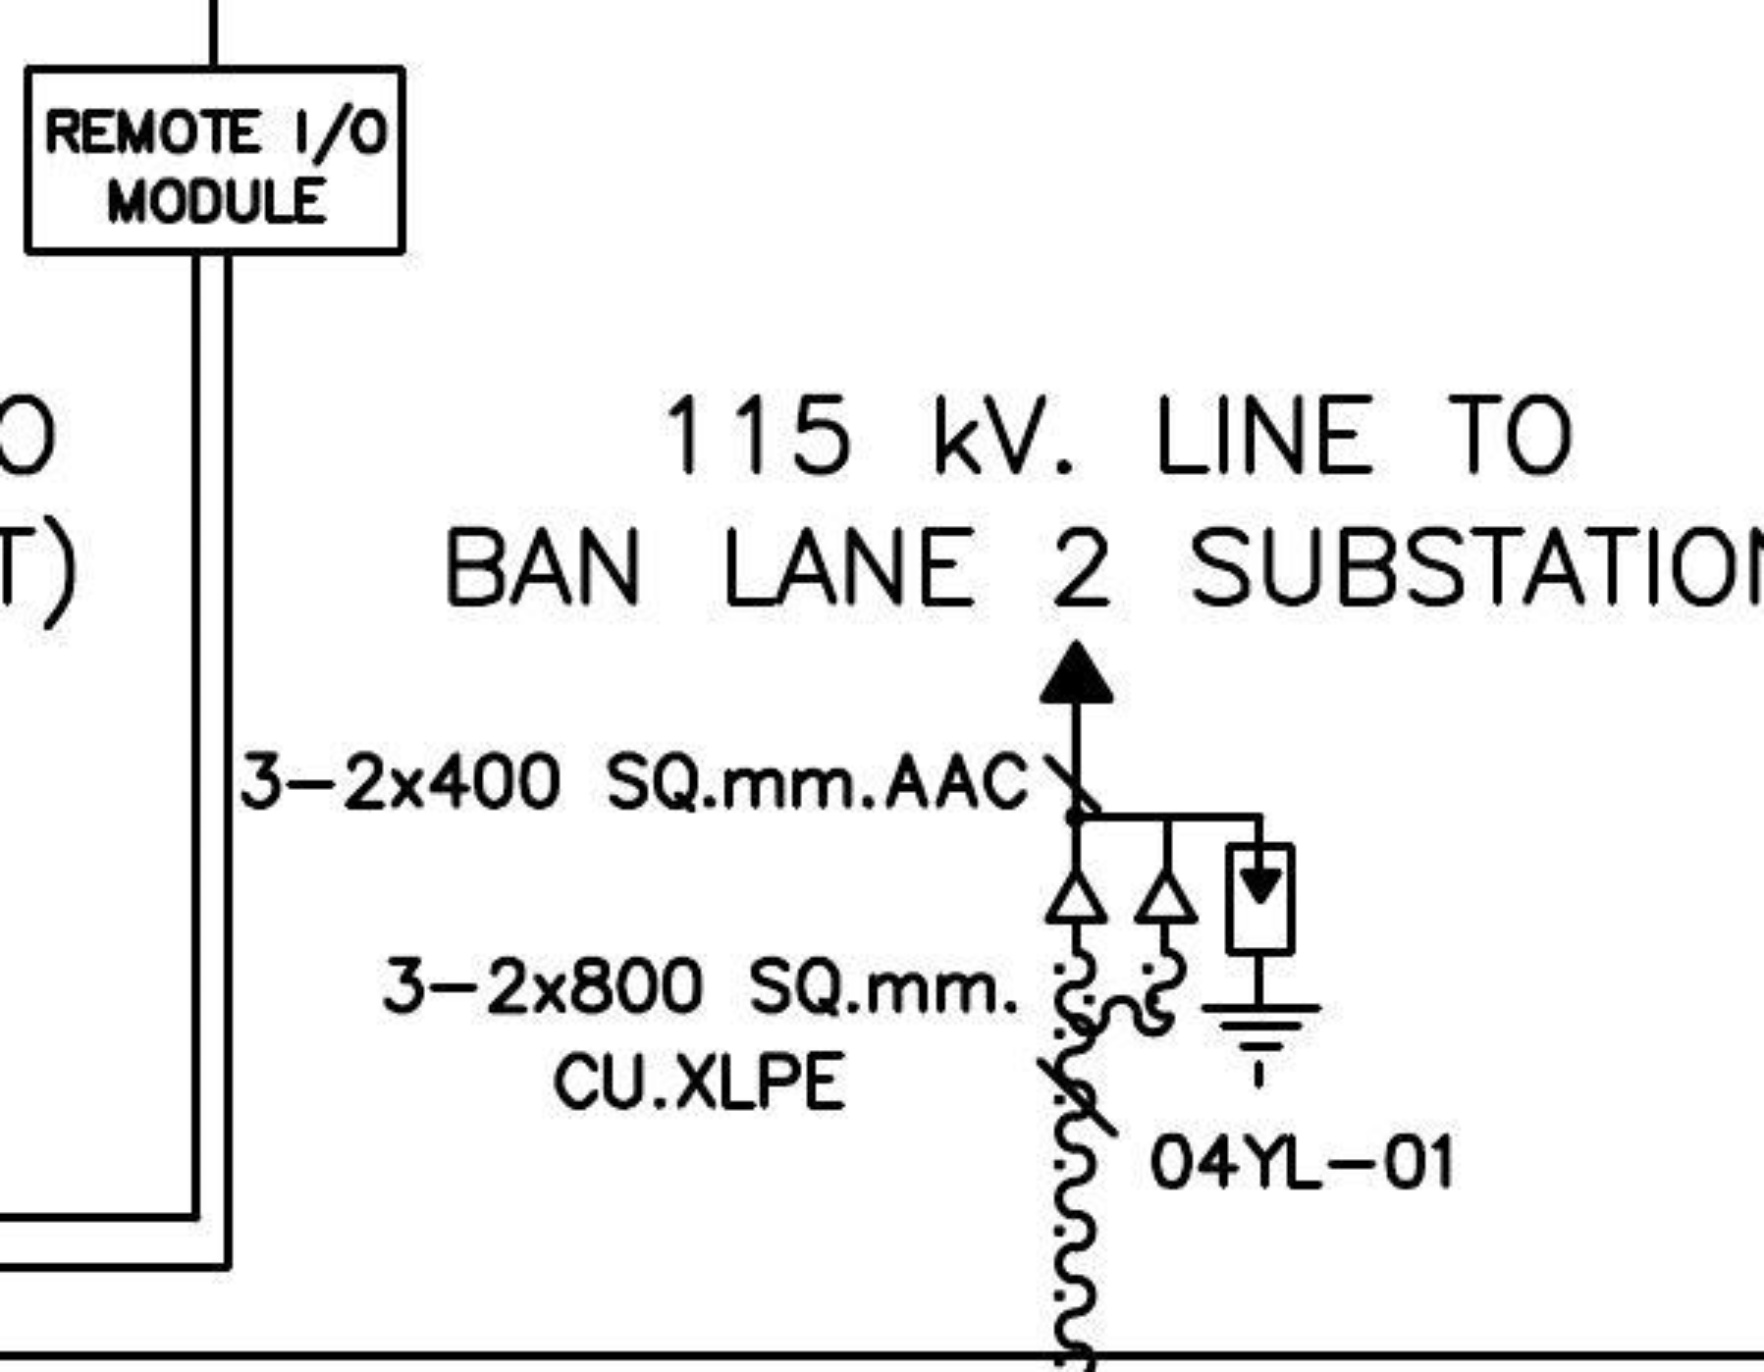115_la: (1198, 841, 1324, 1091)
remote_io_module: (21, 64, 407, 258)
terminator_double: (1039, 809, 1203, 927)
